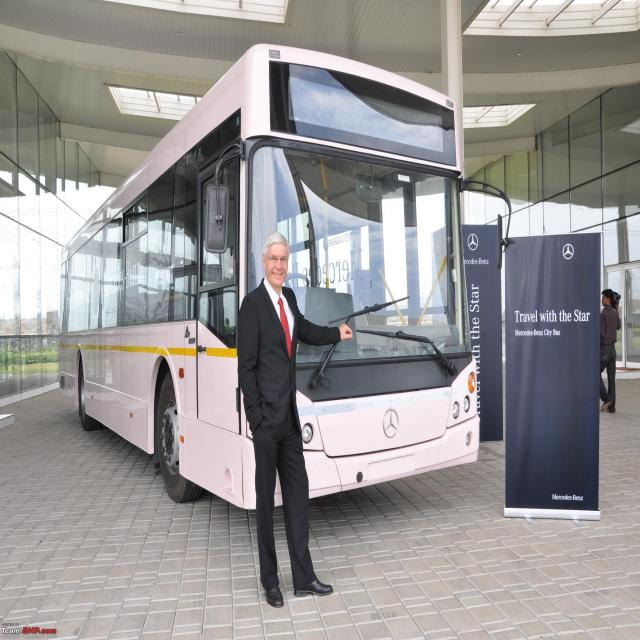bus: (60, 43, 480, 508)
